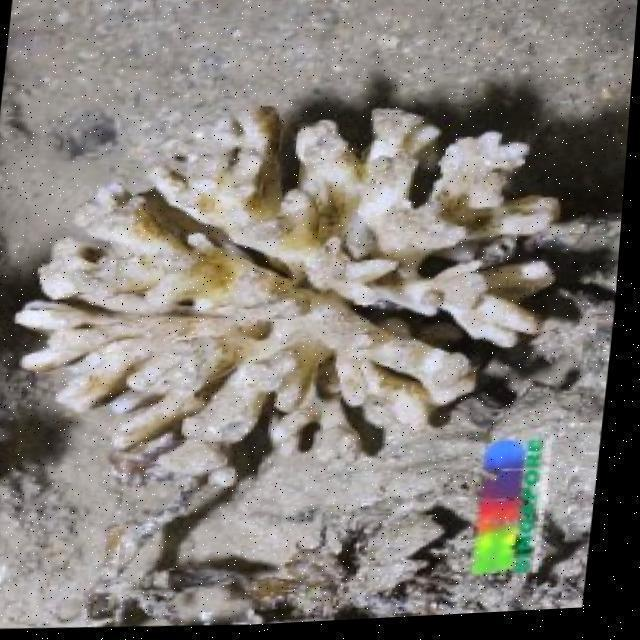Bleached Coral: (10, 54, 615, 527)
